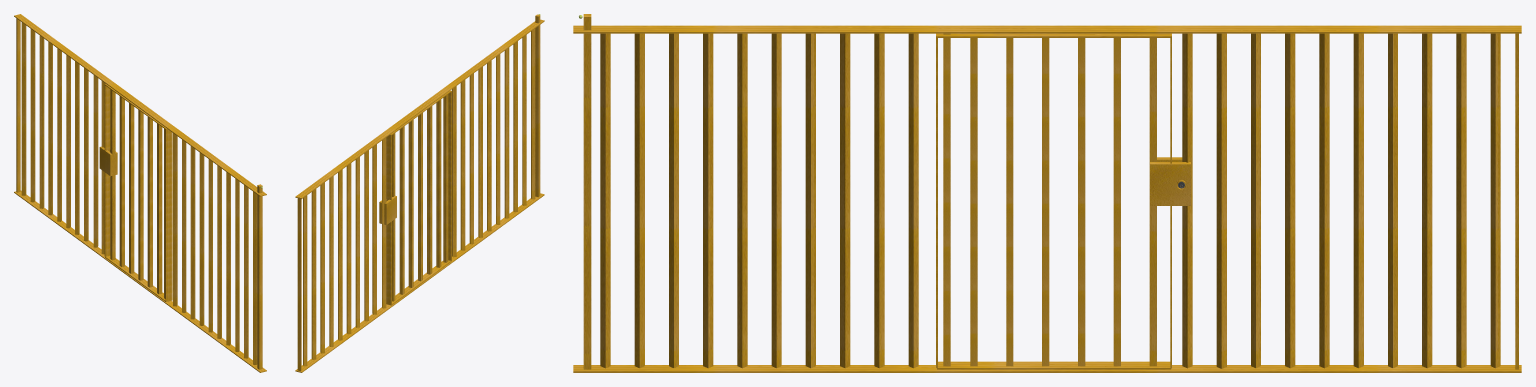
The model's file is Puerta_Animada.obj.
3 views of the same model, side by side, from view 1: azimuth 30°, elevation 25°; view 2: azimuth 150°, elevation 25°; view 3: azimuth 270°, elevation 25° (orthographic). The views are drawn at different scales.
Parts seen in each view (by area): view 1: MarcoHorz005, MarcoHorz004, PuertaLado001, Marco006, Barrita146, Barrita165, Barrita147, Barrita148, Barrita166, PuertaLado002, Barrita154, Barrita173 (+23 smaller); view 2: MarcoHorz005, MarcoHorz004, Marco006, Barrita169, Barrita147, Barrita151, Barrita164, Barrita177, Barrita178, Barrita176, Barrita173, Barrita174 (+23 smaller); view 3: MarcoHorz005, MarcoHorz004, Barrita154, Barrita147, Barrita151, Barrita164, Barrita168, Barrita172, Barrita146, Barrita148, Barrita150, Barrita152 (+22 smaller).
Boxes of the visible parts, box(x1,y1,x2,y2) form: MarcoHorz005: box(14, 14, 266, 196); MarcoHorz004: box(14, 190, 266, 372); PuertaLado001: box(165, 129, 172, 301); Marco006: box(257, 184, 262, 369); Barrita146: box(21, 22, 26, 195); Barrita165: box(190, 146, 195, 319); Barrita147: box(30, 29, 35, 202); Barrita148: box(39, 35, 44, 208); Barrita166: box(199, 153, 204, 325); PuertaLado002: box(104, 84, 110, 256); Barrita154: box(93, 75, 98, 247); Barrita173: box(119, 96, 124, 266); MarcoHorz005: box(295, 19, 544, 198); MarcoHorz004: box(295, 193, 544, 372); Marco006: box(535, 14, 540, 197); Barrita169: box(504, 47, 509, 218); Barrita147: box(311, 189, 316, 359); Barrita151: box(346, 163, 351, 334); Barrita164: box(460, 80, 465, 250); Barrita177: box(436, 99, 441, 267); Barrita178: box(443, 94, 448, 262); Barrita176: box(427, 106, 432, 274); Barrita173: box(399, 126, 404, 294); Barrita174: box(408, 120, 413, 287); MarcoHorz005: box(573, 25, 1521, 33); MarcoHorz004: box(573, 365, 1521, 372); Barrita154: box(1216, 33, 1226, 368); Barrita147: box(1456, 33, 1466, 368); Barrita151: box(1319, 33, 1329, 368); Barrita164: box(874, 33, 884, 368); Barrita168: box(737, 33, 747, 368); Barrita172: box(600, 33, 610, 368); Barrita146: box(1490, 33, 1500, 368); Barrita148: box(1422, 33, 1432, 368); Barrita150: box(1353, 33, 1363, 368); Barrita152: box(1285, 33, 1295, 368).
Bounding box in the file's own units: 10.52 × 211 × 510.
3 materials, 2 textured.
